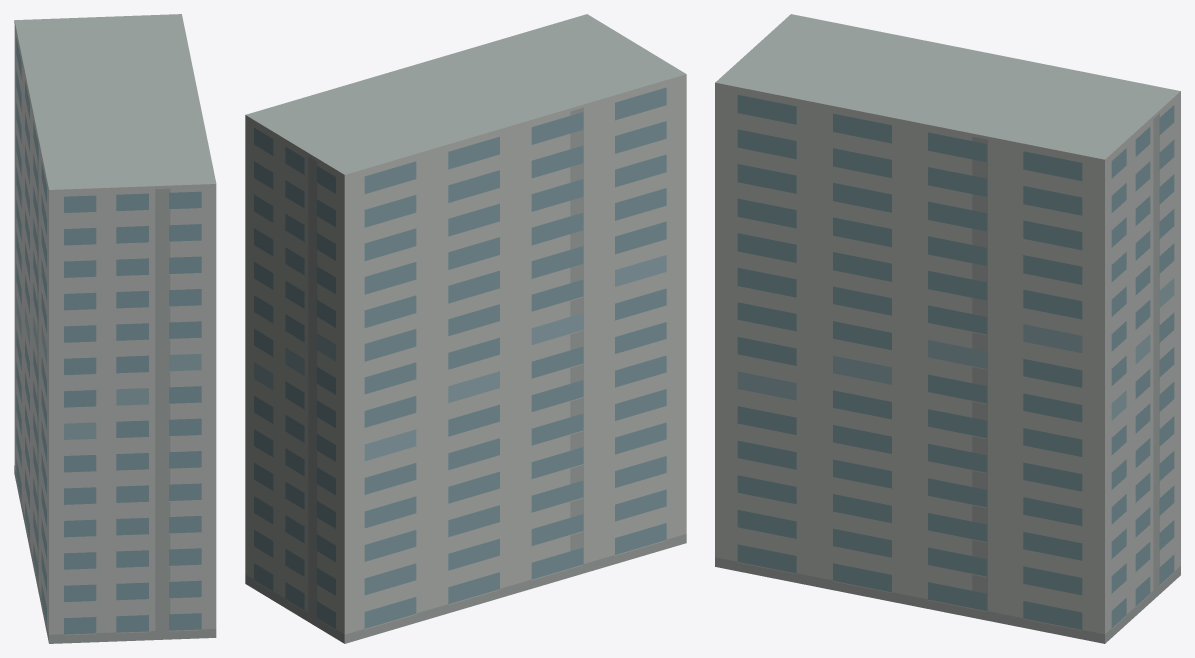
File: residential-eee23de7-5cc6-466f-9048-8ca0a6c88b84.glb
3 views of the same model, side by side, from view 1: azimuth 30°, elevation 25°; view 2: azimuth 150°, elevation 25°; view 3: azimuth 270°, elevation 25° (orthographic). The views are drawn at different scales.
Parts seen in each view (by area): view 1: residential-eee23de7-5cc6-466f-9048-8ca0a6c88b84.tmp; view 2: residential-eee23de7-5cc6-466f-9048-8ca0a6c88b84.tmp; view 3: residential-eee23de7-5cc6-466f-9048-8ca0a6c88b84.tmp.
Part boxes in pixels (left/top/right/bottom): residential-eee23de7-5cc6-466f-9048-8ca0a6c88b84.tmp: left=14, top=14, right=216, bottom=643; residential-eee23de7-5cc6-466f-9048-8ca0a6c88b84.tmp: left=245, top=14, right=686, bottom=643; residential-eee23de7-5cc6-466f-9048-8ca0a6c88b84.tmp: left=715, top=14, right=1180, bottom=643.
Size of the model in its own units: 23.89 by 37 by 32.26.
